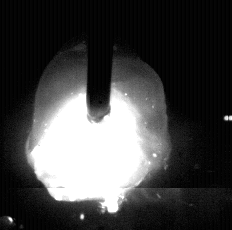arame: (87, 0, 111, 123)
poca: (25, 0, 172, 230)
